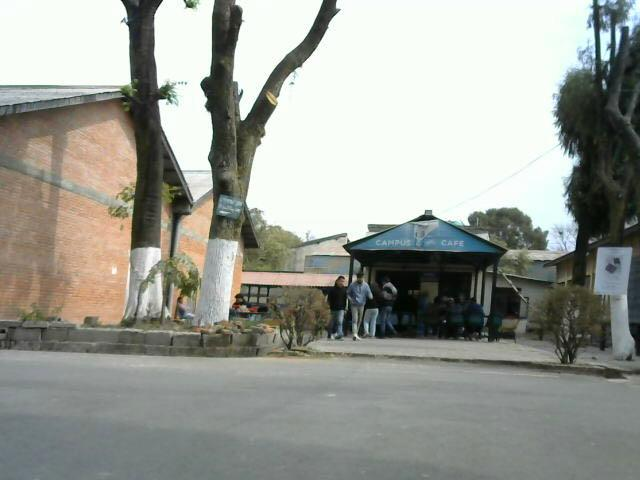Building: (0, 77, 116, 322), (349, 211, 517, 295)
Person: (329, 268, 378, 346)
Road: (0, 345, 640, 480)
Tree: (107, 0, 298, 346), (549, 0, 637, 308), (533, 278, 613, 375)
